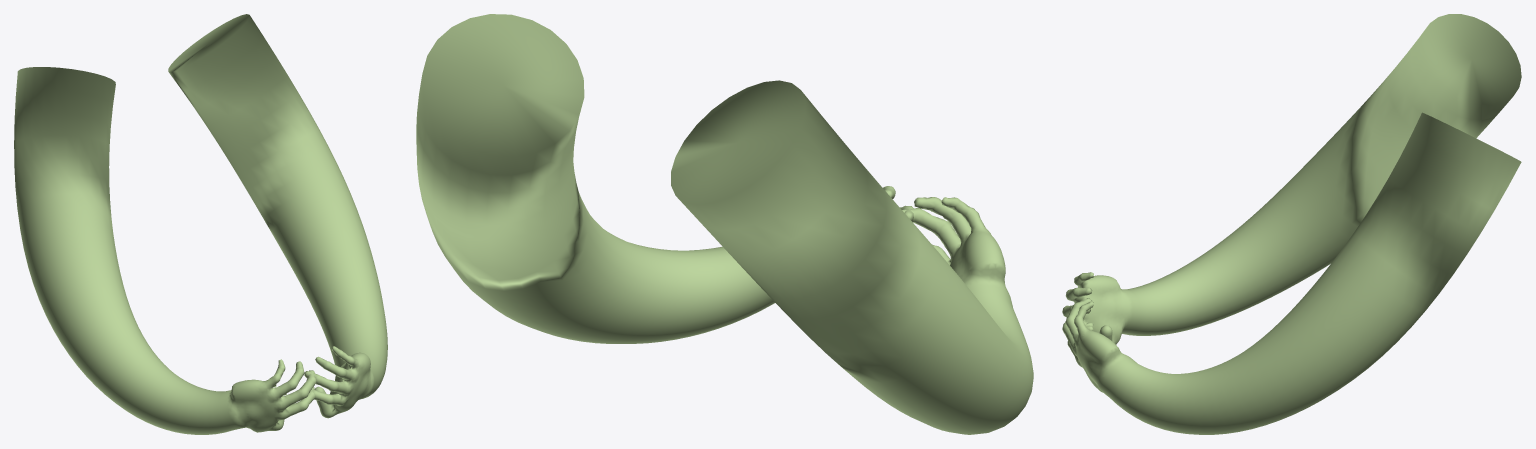
File: gobhi-hold.glb
3 views of the same model, side by side, from view 1: azimuth 30°, elevation 25°; view 2: azimuth 150°, elevation 25°; view 3: azimuth 270°, elevation 25° (orthographic). The views are drawn at different scales.
Parts seen in each view (by area): view 1: arm-left, arm-right; view 2: arm-left, arm-right; view 3: arm-right, arm-left.
Part boxes in pixels (x1,y1,x2,y2): arm-left: (14, 67, 316, 434); arm-right: (168, 14, 387, 418); arm-left: (671, 80, 1033, 434); arm-right: (416, 14, 914, 343); arm-right: (1062, 112, 1521, 434); arm-left: (1062, 14, 1521, 344).
Bounding box in the file's own units: 0.837 × 0.709 × 0.9495.
